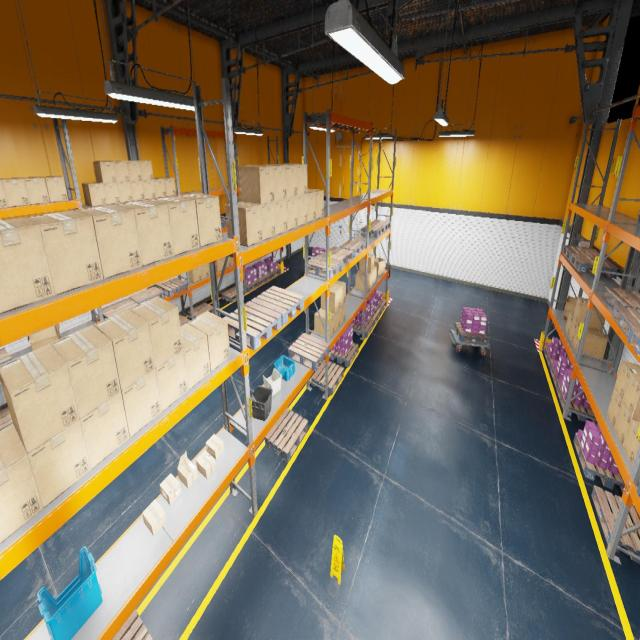box: (0, 343, 79, 453), (24, 210, 104, 295), (50, 325, 121, 419), (27, 419, 91, 508), (0, 218, 55, 314), (0, 424, 43, 543), (74, 205, 142, 279), (94, 310, 155, 390), (129, 296, 183, 368), (115, 200, 173, 266), (80, 391, 129, 469), (148, 197, 200, 255), (121, 370, 161, 438), (188, 311, 230, 372), (175, 193, 222, 247), (180, 323, 210, 390), (155, 351, 188, 411), (225, 201, 262, 246), (239, 166, 274, 204), (572, 325, 608, 361), (614, 360, 640, 402), (573, 297, 605, 330), (258, 165, 286, 201), (142, 499, 166, 536), (271, 164, 297, 198), (0, 178, 30, 207), (622, 372, 640, 420), (28, 324, 61, 350), (569, 318, 601, 344), (623, 419, 640, 467), (614, 403, 632, 447), (283, 163, 307, 196), (21, 177, 50, 204), (177, 451, 198, 488), (40, 175, 68, 202), (160, 473, 181, 505), (314, 308, 335, 340), (607, 388, 622, 429), (196, 450, 216, 479), (261, 202, 276, 240), (82, 183, 106, 206), (93, 161, 117, 183), (321, 285, 340, 312), (307, 188, 324, 218), (206, 434, 224, 459), (275, 199, 287, 235), (110, 161, 130, 182), (103, 182, 120, 205), (287, 196, 298, 230), (332, 280, 346, 306), (562, 296, 577, 320), (355, 271, 371, 293), (117, 181, 133, 203), (159, 177, 176, 196), (126, 160, 142, 180), (130, 181, 145, 201), (298, 194, 307, 226), (307, 191, 316, 222), (359, 254, 374, 272), (142, 180, 156, 199), (140, 160, 153, 180), (186, 266, 202, 282), (565, 311, 574, 337), (361, 270, 374, 288), (374, 257, 386, 276), (154, 178, 166, 197), (0, 180, 8, 208), (200, 264, 209, 279), (335, 308, 340, 332), (340, 302, 345, 325), (216, 258, 224, 272), (223, 256, 230, 268), (373, 266, 377, 285), (230, 257, 233, 266), (208, 263, 210, 276)
pallets: (591, 485, 640, 564), (573, 433, 625, 493), (223, 302, 281, 350), (264, 408, 308, 462), (251, 286, 304, 325), (557, 383, 597, 426), (288, 333, 329, 371), (112, 608, 153, 640), (570, 253, 618, 278), (311, 359, 344, 395), (612, 304, 640, 338), (602, 286, 640, 311), (309, 255, 343, 279), (102, 298, 138, 319), (454, 322, 488, 344), (330, 342, 359, 367), (321, 247, 354, 266), (129, 287, 165, 304), (562, 244, 600, 260), (157, 278, 188, 297), (350, 318, 374, 338), (339, 240, 364, 258), (188, 303, 214, 318), (627, 327, 640, 356), (221, 286, 244, 302), (361, 224, 384, 238), (544, 346, 557, 369), (0, 407, 13, 430), (371, 219, 390, 232), (550, 363, 559, 389), (242, 280, 260, 292), (0, 347, 11, 365), (376, 299, 387, 314), (370, 308, 380, 324), (256, 274, 270, 285), (267, 268, 280, 278), (179, 315, 190, 326), (636, 480, 640, 499), (221, 219, 226, 228)
